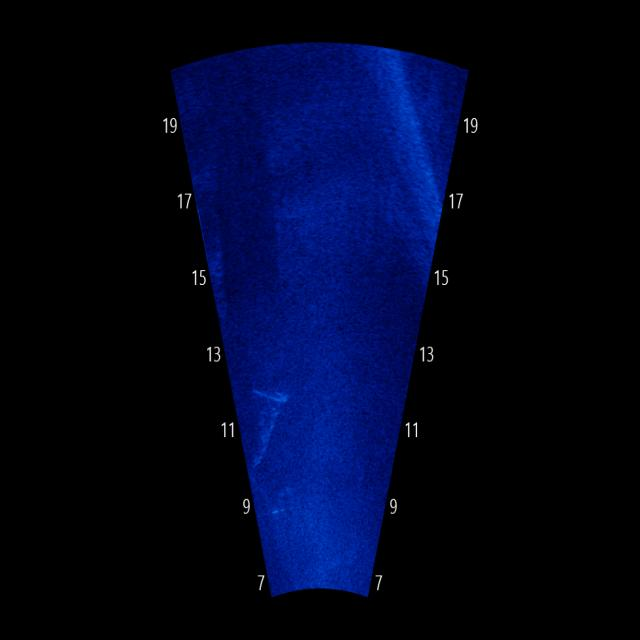triangle: (246, 383, 288, 473)
